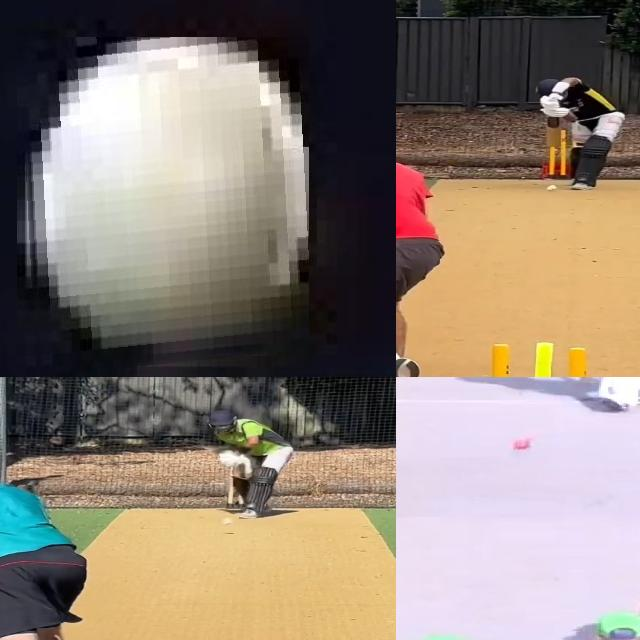Cricket ball: (19, 37, 310, 377), (510, 438, 535, 452), (221, 516, 235, 526), (546, 185, 558, 192)
